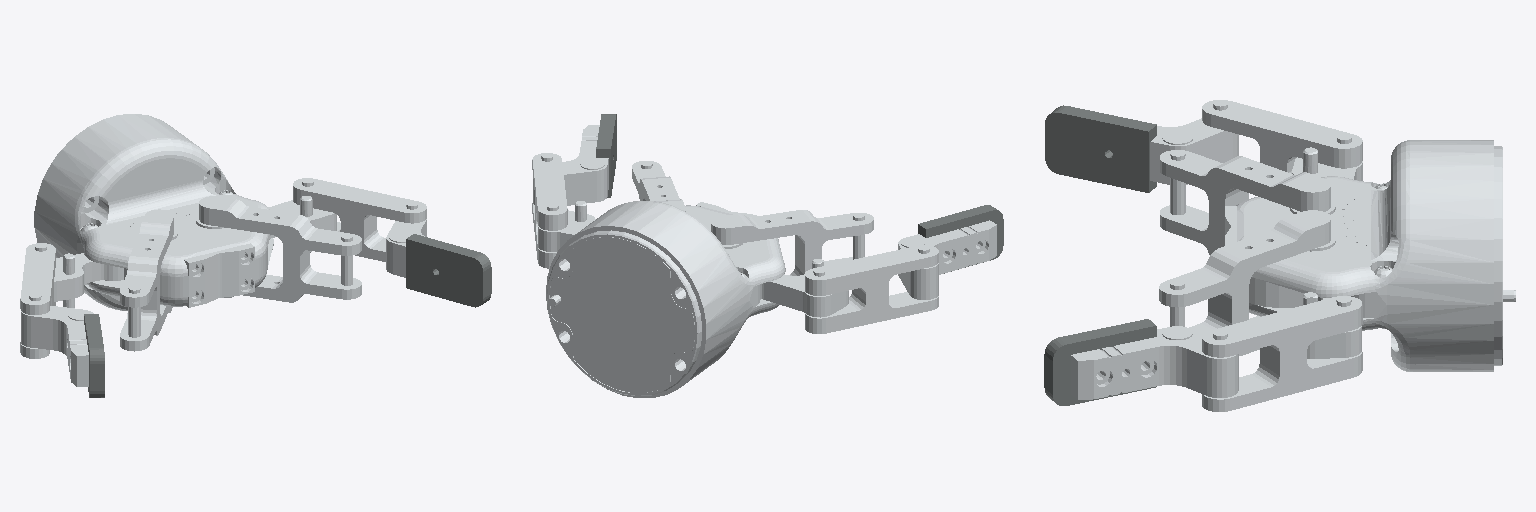
The robot description file, URDF, robot "robotiq_2f85":
<?xml version="1.0" encoding="utf-8"?>

<robot name="robotiq_2f85" xmlns:xacro="http://ros.org/wiki/xacro">
  <link name="gripper_base">
    <inertial>
      <origin rpy="0 0 0" xyz="6.91E-06 4.4117E-06 0.031656"/>
      <mass value="0.60831"/>
      <inertia ixx="0.0004596" ixy="1.5559E-09" ixz="1.397E-07" iyy="0.0005181" iyz="-1.0325E-11" izz="0.00036051"/>
    </inertial>
    <visual>
      <origin rpy="0 0 0" xyz="0 0 0"/>
      <geometry>
        <mesh filename="./meshes/robotiq_2f85/base.STL"/>
      </geometry>
      <material name="">
        <color rgba="0.89804 0.91765 0.92941 0.25"/>
      </material>
    </visual>
    <collision>
      <origin rpy="0 0 0" xyz="0 0 0"/>
      <geometry>
        <mesh filename="./meshes/robotiq_2f85/base.STL"/>
      </geometry>
    </collision>
  </link>
  <link name="gripper_right_spring_link">
    <inertial>
      <origin rpy="0 0 0" xyz="-9.7222E-12 0.028253 6.791E-10"/>
      <mass value="0.029951"/>
      <inertia ixx="1.5103E-05" ixy="-1.0709E-16" ixz="-2.654E-15" iyy="5.0789E-06" iyz="3.2666E-14" izz="1.0707E-05"/>
    </inertial>
    <visual>
      <origin rpy="0 0 0" xyz="0 0 0"/>
      <geometry>
        <mesh filename="./meshes/robotiq_2f85/right_spring_link.STL"/>
      </geometry>
      <material name="">
        <color rgba="0.89804 0.91765 0.92941 1"/>
      </material>
    </visual>
    <collision>
      <origin rpy="0 0 0" xyz="0 0 0"/>
      <geometry>
        <mesh filename="./meshes/robotiq_2f85/right_spring_link.STL"/>
      </geometry>
    </collision>
  </link>
  <joint name="gripper_right_spring_link_joint" type="revolute">
    <origin rpy="3.1416 0 0.6983" xyz="0.0127 -0.061307 0"/>
    <parent link="gripper_base"/>
    <child link="gripper_right_spring_link"/>
    <axis xyz="0 0 1"/>
    <limit effort="0" lower="0" upper="0.7854" velocity="0"/>
  </joint>
  <link name="gripper_left_spring_link">
    <inertial>
      <origin rpy="0 0 0" xyz="-8.05421701555176E-13 0.0282525952540491 7.27854432947014E-10"/>
      <mass value="0.0299513316731757"/>
      <inertia ixx="1.51025275365861E-05" ixy="1.3893966137107E-16" ixz="-5.21047318848845E-15" iyy="5.07891354120236E-06" iyz="3.47379370230503E-14" izz="1.0706817344978E-05"/>
    </inertial>
    <visual>
      <origin rpy="0 0 0" xyz="0 0 0"/>
      <geometry>
        <mesh filename="./meshes/robotiq_2f85/left_spring_link.STL"/>
      </geometry>
      <material name="">
        <color rgba="0.898039215686275 0.917647058823529 0.929411764705882 1"/>
      </material>
    </visual>
    <collision>
      <origin rpy="0 0 0" xyz="0 0 0"/>
      <geometry>
        <mesh filename="./meshes/robotiq_2f85/left_spring_link.STL"/>
      </geometry>
    </collision>
  </link>
  <joint name="gripper_left_spring_link_joint" type="revolute">
    <origin rpy="3.1416 0 -0.70092" xyz="-0.0127 -0.061307 0"/>
    <parent link="gripper_base"/>
    <child link="gripper_left_spring_link"/>
    <axis xyz="0 0 1"/>
    <limit effort="0" lower="-0.7854" upper="0" velocity="0"/>
  </joint>
  <link name="gripper_right_driver">
    <inertial>
      <origin rpy="0 0 0" xyz="0.0179377478479594 0.000926031753317007 -4.0741034207454E-11"/>
      <mass value="0.0184906489409923"/>
      <inertia ixx="6.79440339903172E-07" ixy="-2.0728790158877E-07" ixz="5.46290681974064E-15" iyy="3.45929623837714E-06" iyz="7.55029433009734E-15" izz="3.75009298146153E-06"/>
    </inertial>
    <visual>
      <origin rpy="0 0 0" xyz="0 0 0"/>
      <geometry>
        <mesh filename="./meshes/robotiq_2f85/right_driver.STL"/>
      </geometry>
      <material name="">
        <color rgba="0.898039215686275 0.917647058823529 0.929411764705882 1"/>
      </material>
    </visual>
    <collision>
      <origin rpy="0 0 0" xyz="0 0 0"/>
      <geometry>
        <mesh filename="./meshes/robotiq_2f85/right_driver.STL"/>
      </geometry>
    </collision>
  </link>
  <joint name="gripper_right_driver_joint" type="revolute">
    <origin rpy="3.1416 0 -0.019735" xyz="0.030601 -0.054792 0"/>
    <parent link="gripper_base"/>
    <child link="gripper_right_driver"/>
    <axis xyz="0 0 1"/>
    <limit effort="150" lower="-3.1416" upper="3.1416" velocity="0"/>
  </joint>
  <link name="gripper_right_coupler">
    <inertial>
      <origin rpy="0 0 0" xyz="-0.00277693278884095 0.0214010778170948 -2.64117771736162E-15"/>
      <mass value="0.0273093985570947"/>
      <inertia ixx="8.4351877262463E-06" ixy="8.05599897942411E-07" ixz="3.98563616297657E-19" iyy="2.33117687880373E-06" iyz="-6.91949626399278E-19" izz="6.9133328065108E-06"/>
    </inertial>
    <visual>
      <origin rpy="0 0 0" xyz="0 0 0"/>
      <geometry>
        <mesh filename="./meshes/robotiq_2f85/right_coupler.STL"/>
      </geometry>
      <material name="">
        <color rgba="0.898039215686275 0.917647058823529 0.929411764705882 1"/>
      </material>
    </visual>
    <collision>
      <origin rpy="0 0 0" xyz="0 0 0"/>
      <geometry>
        <mesh filename="./meshes/robotiq_2f85/right_coupler.STL"/>
      </geometry>
    </collision>
  </link>
  <joint name="gripper_right_coupler_joint" type="revolute">
    <origin rpy="0 0 -0.25804" xyz="0.031486 -0.0040855 0"/>
    <parent link="gripper_right_driver"/>
    <child link="gripper_right_coupler"/>
    <axis xyz="0 0 -1"/>
    <limit effort="0" lower="0.13" upper="0.79" velocity="0"/>
  </joint>
  <link name="gripper_right_follower">
    <inertial>
      <origin rpy="0 0 0" xyz="0.0118738800643238 0.013213950103123 -6.42371679073841E-16"/>
      <mass value="0.0195548943464751"/>
      <inertia ixx="3.99125345460037E-06" ixy="-9.32228708142781E-07" ixz="-1.06756339811242E-18" iyy="1.28831055431048E-06" iyz="-9.53069862405573E-19" izz="4.59174098263665E-06"/>
    </inertial>
    <visual>
      <origin rpy="0 0 0" xyz="0 0 0"/>
      <geometry>
        <mesh filename="./meshes/robotiq_2f85/right_follower.STL"/>
      </geometry>
      <material name="">
        <color rgba="0.898039215686275 0.917647058823529 0.929411764705882 1"/>
      </material>
    </visual>
    <collision>
      <origin rpy="0 0 0" xyz="0 0 0"/>
      <geometry>
        <mesh filename="./meshes/robotiq_2f85/right_follower.STL"/>
      </geometry>
    </collision>
  </link>
  <joint name="gripper_right_follower_joint" type="revolute">
    <origin rpy="3.1416 0 -2.9033" xyz="-0.0061148 0.047125 0"/>
    <parent link="gripper_right_coupler"/>
    <child link="gripper_right_follower"/>
    <axis xyz="0 0 1"/>
    <limit effort="0" lower="-3.1416" upper="3.1416" velocity="0"/>
  </joint>
  <link name="gripper_right_pad">
    <inertial>
      <origin rpy="0 0 0" xyz="0.000197179990555962 0.003 -5.73415880070697E-15"/>
      <mass value="0.0112846745192962"/>
      <inertia ixx="4.84198905594698E-07" ixy="1.17467826101044E-22" ixz="-2.69493952498347E-22" iyy="1.75287448520128E-06" iyz="3.01393554780919E-23" izz="1.33638362672235E-06"/>
    </inertial>
    <visual>
      <origin rpy="0 0 0" xyz="0 0 0"/>
      <geometry>
        <mesh filename="./meshes/robotiq_2f85/right_pad.STL"/>
      </geometry>
      <material name="">
        <color rgba="0.529411764705882 0.549019607843137 0.549019607843137 1"/>
      </material>
    </visual>
    <collision>
      <origin rpy="0 0 0" xyz="0 0 0"/>
      <geometry>
        <mesh filename="./meshes/robotiq_2f85/right_pad.STL"/>
      </geometry>
    </collision>
  </link>
  <joint name="gripper_right_pad_joint" type="fixed">
    <origin rpy="3.1416 0 -1.5708" xyz="0.024903 0.032264 0"/>
    <parent link="gripper_right_follower"/>
    <child link="gripper_right_pad"/>
    <axis xyz="0 1 0"/>
    <limit effort="5" lower="0" upper="0.003" velocity="0.1"/>
  </joint>
  <link name="gripper_left_driver">
    <inertial>
      <origin rpy="0 0 0" xyz="0.0179377478480944 0.000926031754016808 -4.09476305946672E-11"/>
      <mass value="0.0184906489414316"/>
      <inertia ixx="6.79440340033055E-07" ixy="-2.07287901659297E-07" ixz="5.48822371152932E-15" iyy="3.45929623843939E-06" iyz="7.56200742857023E-15" izz="3.75009298156646E-06"/>
    </inertial>
    <visual>
      <origin rpy="0 0 0" xyz="0 0 0"/>
      <geometry>
        <mesh filename="./meshes/robotiq_2f85/left_driver.STL"/>
      </geometry>
      <material name="">
        <color rgba="0.898039215686275 0.917647058823529 0.929411764705882 1"/>
      </material>
    </visual>
    <collision>
      <origin rpy="0 0 0" xyz="0 0 0"/>
      <geometry>
        <mesh filename="./meshes/robotiq_2f85/left_driver.STL"/>
      </geometry>
    </collision>
  </link>
  <joint name="gripper_left_driver_joint" type="revolute">
    <origin rpy="0 0 -3.1245" xyz="-0.030601 -0.054792 0"/>
    <parent link="gripper_base"/>
    <child link="gripper_left_driver"/>
    <axis xyz="0 0 1"/>
    <limit effort="150" lower="-3.1416" upper="3.1416" velocity="0"/>
  </joint>
  <link name="gripper_left_coupler">
    <inertial>
      <origin rpy="0 0 0" xyz="-0.00277693278884093 0.0214010778170948 -2.65696393157366E-15"/>
      <mass value="0.0273093985570947"/>
      <inertia ixx="8.43518772624629E-06" ixy="8.05599897942414E-07" ixz="3.98028057558574E-19" iyy="2.33117687880373E-06" iyz="-6.91715450328278E-19" izz="6.9133328065108E-06"/>
    </inertial>
    <visual>
      <origin rpy="0 0 0" xyz="0 0 0"/>
      <geometry>
        <mesh filename="./meshes/robotiq_2f85/left_coupler.STL"/>
      </geometry>
      <material name="">
        <color rgba="0.898039215686275 0.917647058823529 0.929411764705882 1"/>
      </material>
    </visual>
    <collision>
      <origin rpy="0 0 0" xyz="0 0 0"/>
      <geometry>
        <mesh filename="./meshes/robotiq_2f85/left_coupler.STL"/>
      </geometry>
    </collision>
  </link>
  <joint name="gripper_left_coupler_joint" type="revolute">
    <origin rpy="3.1416 0 -3.1416" xyz="0.031486 -0.0040855 0"/>
    <parent link="gripper_left_driver"/>
    <child link="gripper_left_coupler"/>
    <axis xyz="0 0 1"/>
    <limit effort="0" lower="0.13" upper="0.79" velocity="0"/>
  </joint>
  <link name="gripper_left_follower">
    <inertial>
      <origin rpy="0 0 0" xyz="0.0118738800643238 0.013213950103123 2.13813023929037E-15"/>
      <mass value="0.0195548943464751"/>
      <inertia ixx="3.99125345460038E-06" ixy="-9.32228708142783E-07" ixz="-1.06843707618223E-18" iyy="1.28831055431048E-06" iyz="-9.54631781105362E-19" izz="4.59174098263666E-06"/>
    </inertial>
    <visual>
      <origin rpy="0 0 0" xyz="0 0 0"/>
      <geometry>
        <mesh filename="./meshes/robotiq_2f85/left_follower.STL"/>
      </geometry>
      <material name="">
        <color rgba="0.898039215686275 0.917647058823529 0.929411764705882 1"/>
      </material>
    </visual>
    <collision>
      <origin rpy="0 0 0" xyz="0 0 0"/>
      <geometry>
        <mesh filename="./meshes/robotiq_2f85/left_follower.STL"/>
      </geometry>
    </collision>
  </link>
  <joint name="gripper_left_follower_joint" type="revolute">
    <origin rpy="0 0 0.017192" xyz="-0.0061148 0.047125 0"/>
    <parent link="gripper_left_coupler"/>
    <child link="gripper_left_follower"/>
    <axis xyz="0 0 1"/>
    <limit effort="0" lower="-3.1416" upper="3.1416" velocity="0"/>
  </joint>
  <link name="gripper_left_pad">
    <inertial>
      <origin rpy="0 0 0" xyz="0.00019717999055599 0.003 8.49842392779646E-15"/>
      <mass value="0.0112846745192961"/>
      <inertia ixx="4.84198905594697E-07" ixy="7.66025016740815E-22" ixz="4.8234593310579E-23" iyy="1.75287448520127E-06" iyz="-9.35905899337494E-24" izz="1.33638362672235E-06"/>
    </inertial>
    <visual>
      <origin rpy="0 0 0" xyz="0 0 0"/>
      <geometry>
        <mesh filename="./meshes/robotiq_2f85/left_pad.STL"/>
      </geometry>
      <material name="">
        <color rgba="0.529411764705882 0.549019607843137 0.549019607843137 1"/>
      </material>
    </visual>
    <collision>
      <origin rpy="0 0 0" xyz="0 0 0"/>
      <geometry>
        <mesh filename="./meshes/robotiq_2f85/left_pad.STL"/>
      </geometry>
    </collision>
  </link>
  <joint name="gripper_left_pad_joint" type="prismatic">
    <origin rpy="0 0 -1.5708" xyz="0.018903 0.032265 0"/>
    <parent link="gripper_left_follower"/>
    <child link="gripper_left_pad"/>
    <axis xyz="0 -1 0"/>
    <limit effort="5" lower="0" upper="0.003" velocity="0.1"/>
  </joint>
  <!-- Add a Tool Center Point reference as a convenience.
        The TCP is at 18.75mm from the tip of the gripper as its located in
        the middle of the pad. As a result, if the TCP is at 18.75mm above the floor,
        it means that the gripper touches the floor. If you want the TCP to
        be located at the tip of the gripper, use 0.14948 instead of 0.13073 -->
  <joint name="tool_center_point" type="fixed">
    <origin rpy="1.5707963267948966 1.5707963267948966 0" xyz="0 -0.14948 0"/>
    <parent link="gripper_base"/>
    <child link="tcp"/>
  </joint>
  <link name="tcp">
    <!-- If no inertial parameters are supplied, PyBullet will use a mass of 1Kg. -->
    <inertial>
      <mass value="0"/>
      <inertia ixx="0.0" ixy="0.0" ixz="0.0" iyy="0.0" iyz="0.0" izz="0.0"/>
    </inertial>
  </link>
  <!-- ROS base_link to UR 'Base' Coordinates transform -->
  <!-- <link name="base"/>
  <joint name="base_link-base_fixed_joint" type="fixed">
    <origin rpy="0 0 -3.14159265359" xyz="0 0 0"/>
    <parent link="base_link"/>
    <child link="base"/>
  </joint> -->
  <!-- Frame coincident with all-zeros TCP on UR controller -->
  <!-- <link name="tool0"/>
  <joint name="wrist_3_link-tool0_fixed_joint" type="fixed">
    <origin rpy="-1.57079632679 0 0" xyz="0 0.1 0"/>
    <parent link="wrist_3_link"/>
    <child link="tool0"/>
  </joint>
  <link name="world"/>
  <joint name="world_joint" type="fixed">
    <parent link="world"/>
    <child link="base_link"/>
    <origin rpy="0.0 0.0 0.0" xyz="0.0 0.0 0.0"/>
  </joint> -->
</robot>

--- What the picture shows (computed from the rendered views, not written in the file) ---
3 views of the same robot in one strip: view 1: azimuth 30°, elevation 25°; view 2: azimuth 150°, elevation 25°; view 3: azimuth 270°, elevation 25° (orthographic).
Robot: robotiq_2f85 — 12 links, 11 joints (8 revolute, 1 prismatic, 2 fixed); root link gripper_base; default pose: joints at zero except 2 at the middle of their limits (gripper_right_coupler_joint = 0.46, gripper_left_coupler_joint = 0.46).
Links seen in each view (by area): view 1: gripper_base, gripper_right_spring_link, gripper_left_spring_link, gripper_right_pad, gripper_right_coupler, gripper_left_follower, gripper_left_coupler, gripper_left_driver, gripper_left_pad, gripper_right_follower, gripper_right_driver; view 2: gripper_base, gripper_left_coupler, gripper_left_spring_link, gripper_left_follower, gripper_right_coupler, gripper_right_follower, gripper_left_driver, gripper_left_pad, gripper_right_spring_link, gripper_right_driver, gripper_right_pad; view 3: gripper_base, gripper_right_coupler, gripper_left_spring_link, gripper_right_spring_link, gripper_right_follower, gripper_left_pad, gripper_left_coupler, gripper_right_pad, gripper_left_follower, gripper_right_driver, gripper_left_driver.
Boxes of the visible links, bbox=[...] form: gripper_base: bbox=[34, 114, 273, 310]; gripper_right_spring_link: bbox=[199, 196, 361, 302]; gripper_left_spring_link: bbox=[120, 209, 173, 351]; gripper_right_pad: bbox=[406, 234, 491, 307]; gripper_right_coupler: bbox=[293, 178, 426, 261]; gripper_left_follower: bbox=[21, 306, 93, 386]; gripper_left_coupler: bbox=[20, 243, 55, 358]; gripper_left_driver: bbox=[54, 253, 123, 307]; gripper_left_pad: bbox=[84, 314, 104, 397]; gripper_right_follower: bbox=[386, 219, 426, 277]; gripper_right_driver: bbox=[268, 196, 336, 252]; gripper_base: bbox=[546, 201, 785, 397]; gripper_left_coupler: bbox=[805, 245, 938, 333]; gripper_left_spring_link: bbox=[711, 210, 873, 275]; gripper_left_follower: bbox=[898, 220, 996, 299]; gripper_right_coupler: bbox=[532, 153, 567, 268]; gripper_right_follower: bbox=[533, 125, 608, 205]; gripper_left_driver: bbox=[760, 259, 848, 317]; gripper_left_pad: bbox=[918, 205, 1003, 273]; gripper_right_spring_link: bbox=[632, 161, 685, 211]; gripper_right_driver: bbox=[538, 201, 595, 251]; gripper_right_pad: bbox=[596, 114, 616, 197]; gripper_base: bbox=[1225, 140, 1515, 371]; gripper_right_coupler: bbox=[1202, 296, 1362, 411]; gripper_left_spring_link: bbox=[1160, 150, 1330, 254]; gripper_right_spring_link: bbox=[1159, 210, 1330, 355]; gripper_right_follower: bbox=[1071, 326, 1238, 399]; gripper_left_pad: bbox=[1045, 105, 1156, 192]; gripper_left_coupler: bbox=[1202, 100, 1362, 173]; gripper_right_pad: bbox=[1044, 319, 1156, 405]; gripper_left_follower: bbox=[1150, 118, 1238, 184]; gripper_right_driver: bbox=[1303, 292, 1361, 358]; gripper_left_driver: bbox=[1292, 147, 1362, 180].
Bounding box of the posed robot: 0.1903 × 0.1522 × 0.075 m (x, y, z).
11 mesh visuals loaded from 11 distinct referenced files (11 binary STL).
